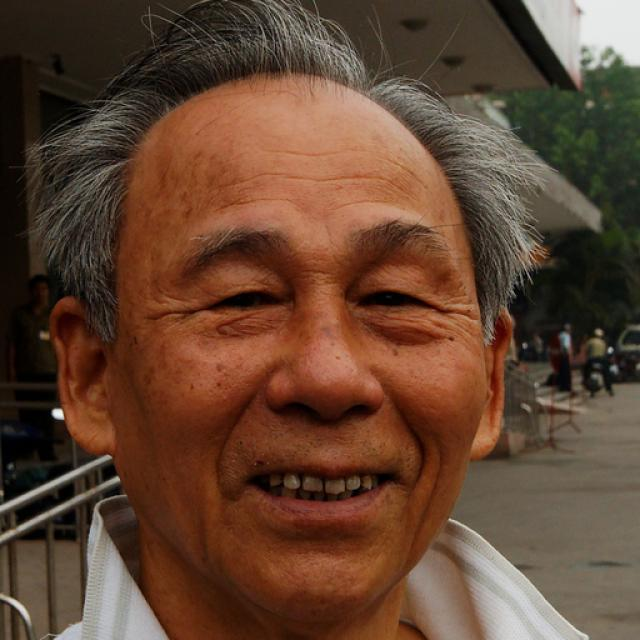Pigmentation: (140, 144, 229, 229), (283, 304, 339, 344)
Wrinkle: (268, 146, 438, 192), (218, 167, 426, 199), (404, 432, 445, 573), (209, 392, 258, 500), (392, 392, 429, 485), (211, 188, 303, 214), (335, 193, 402, 213)
